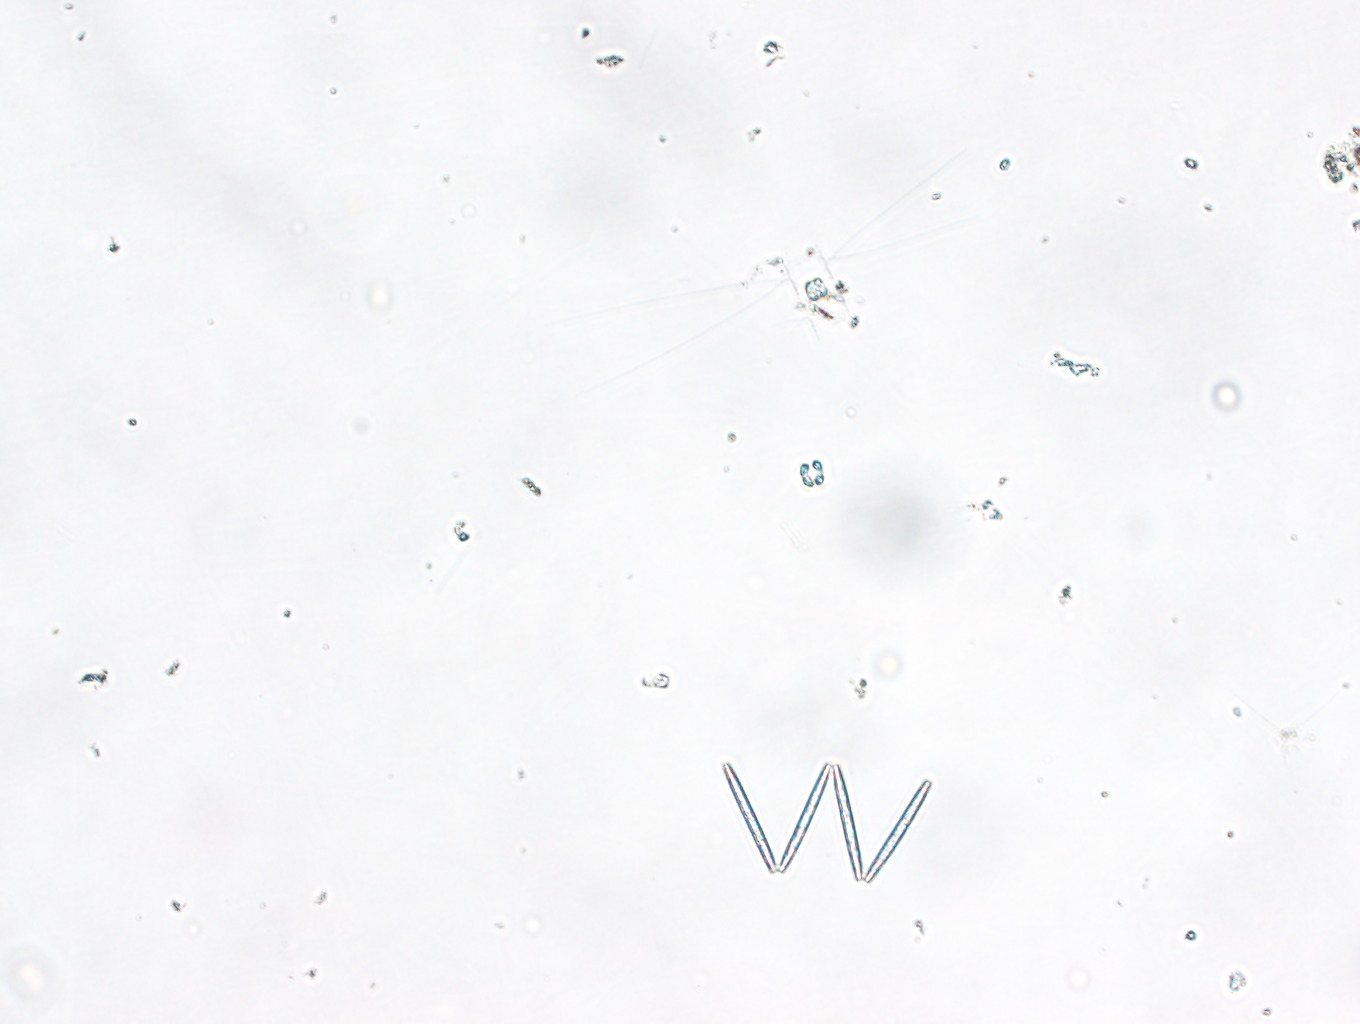chaetoceros: (563, 150, 1000, 397)
thalassionema nitzschioides: (722, 763, 930, 884)
